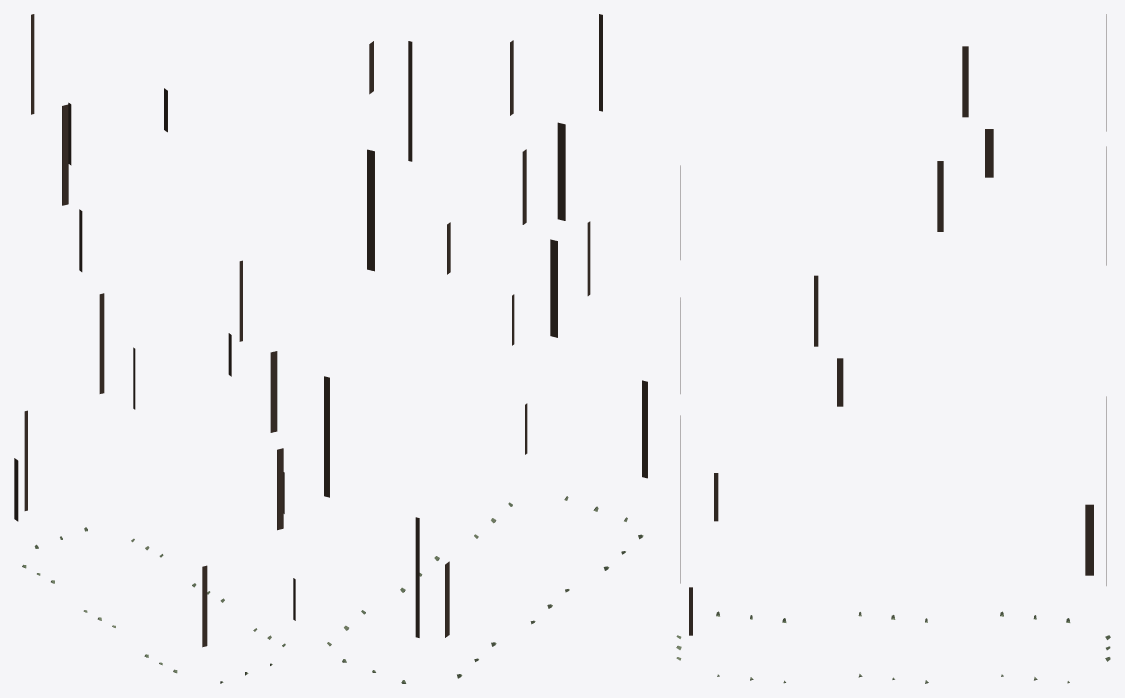
The model's file is flume_bent_50_detail2.glb.
3 views of the same model, side by side, from view 1: azimuth 30°, elevation 25°; view 2: azimuth 150°, elevation 25°; view 3: azimuth 270°, elevation 25° (orthographic). The views are drawn at different scales.
Visible parts, largest first — view 1: flume_bent_50_detail2_mesh; view 2: flume_bent_50_detail2_mesh; view 3: flume_bent_50_detail2_mesh.
Part boxes in pixels (<box>): flume_bent_50_detail2_mesh: <box>14,14,295,683</box>; flume_bent_50_detail2_mesh: <box>324,14,647,683</box>; flume_bent_50_detail2_mesh: <box>676,14,1110,683</box>.
Bounding box in the file's own units: 4.24 × 19.34 × 12.24.
